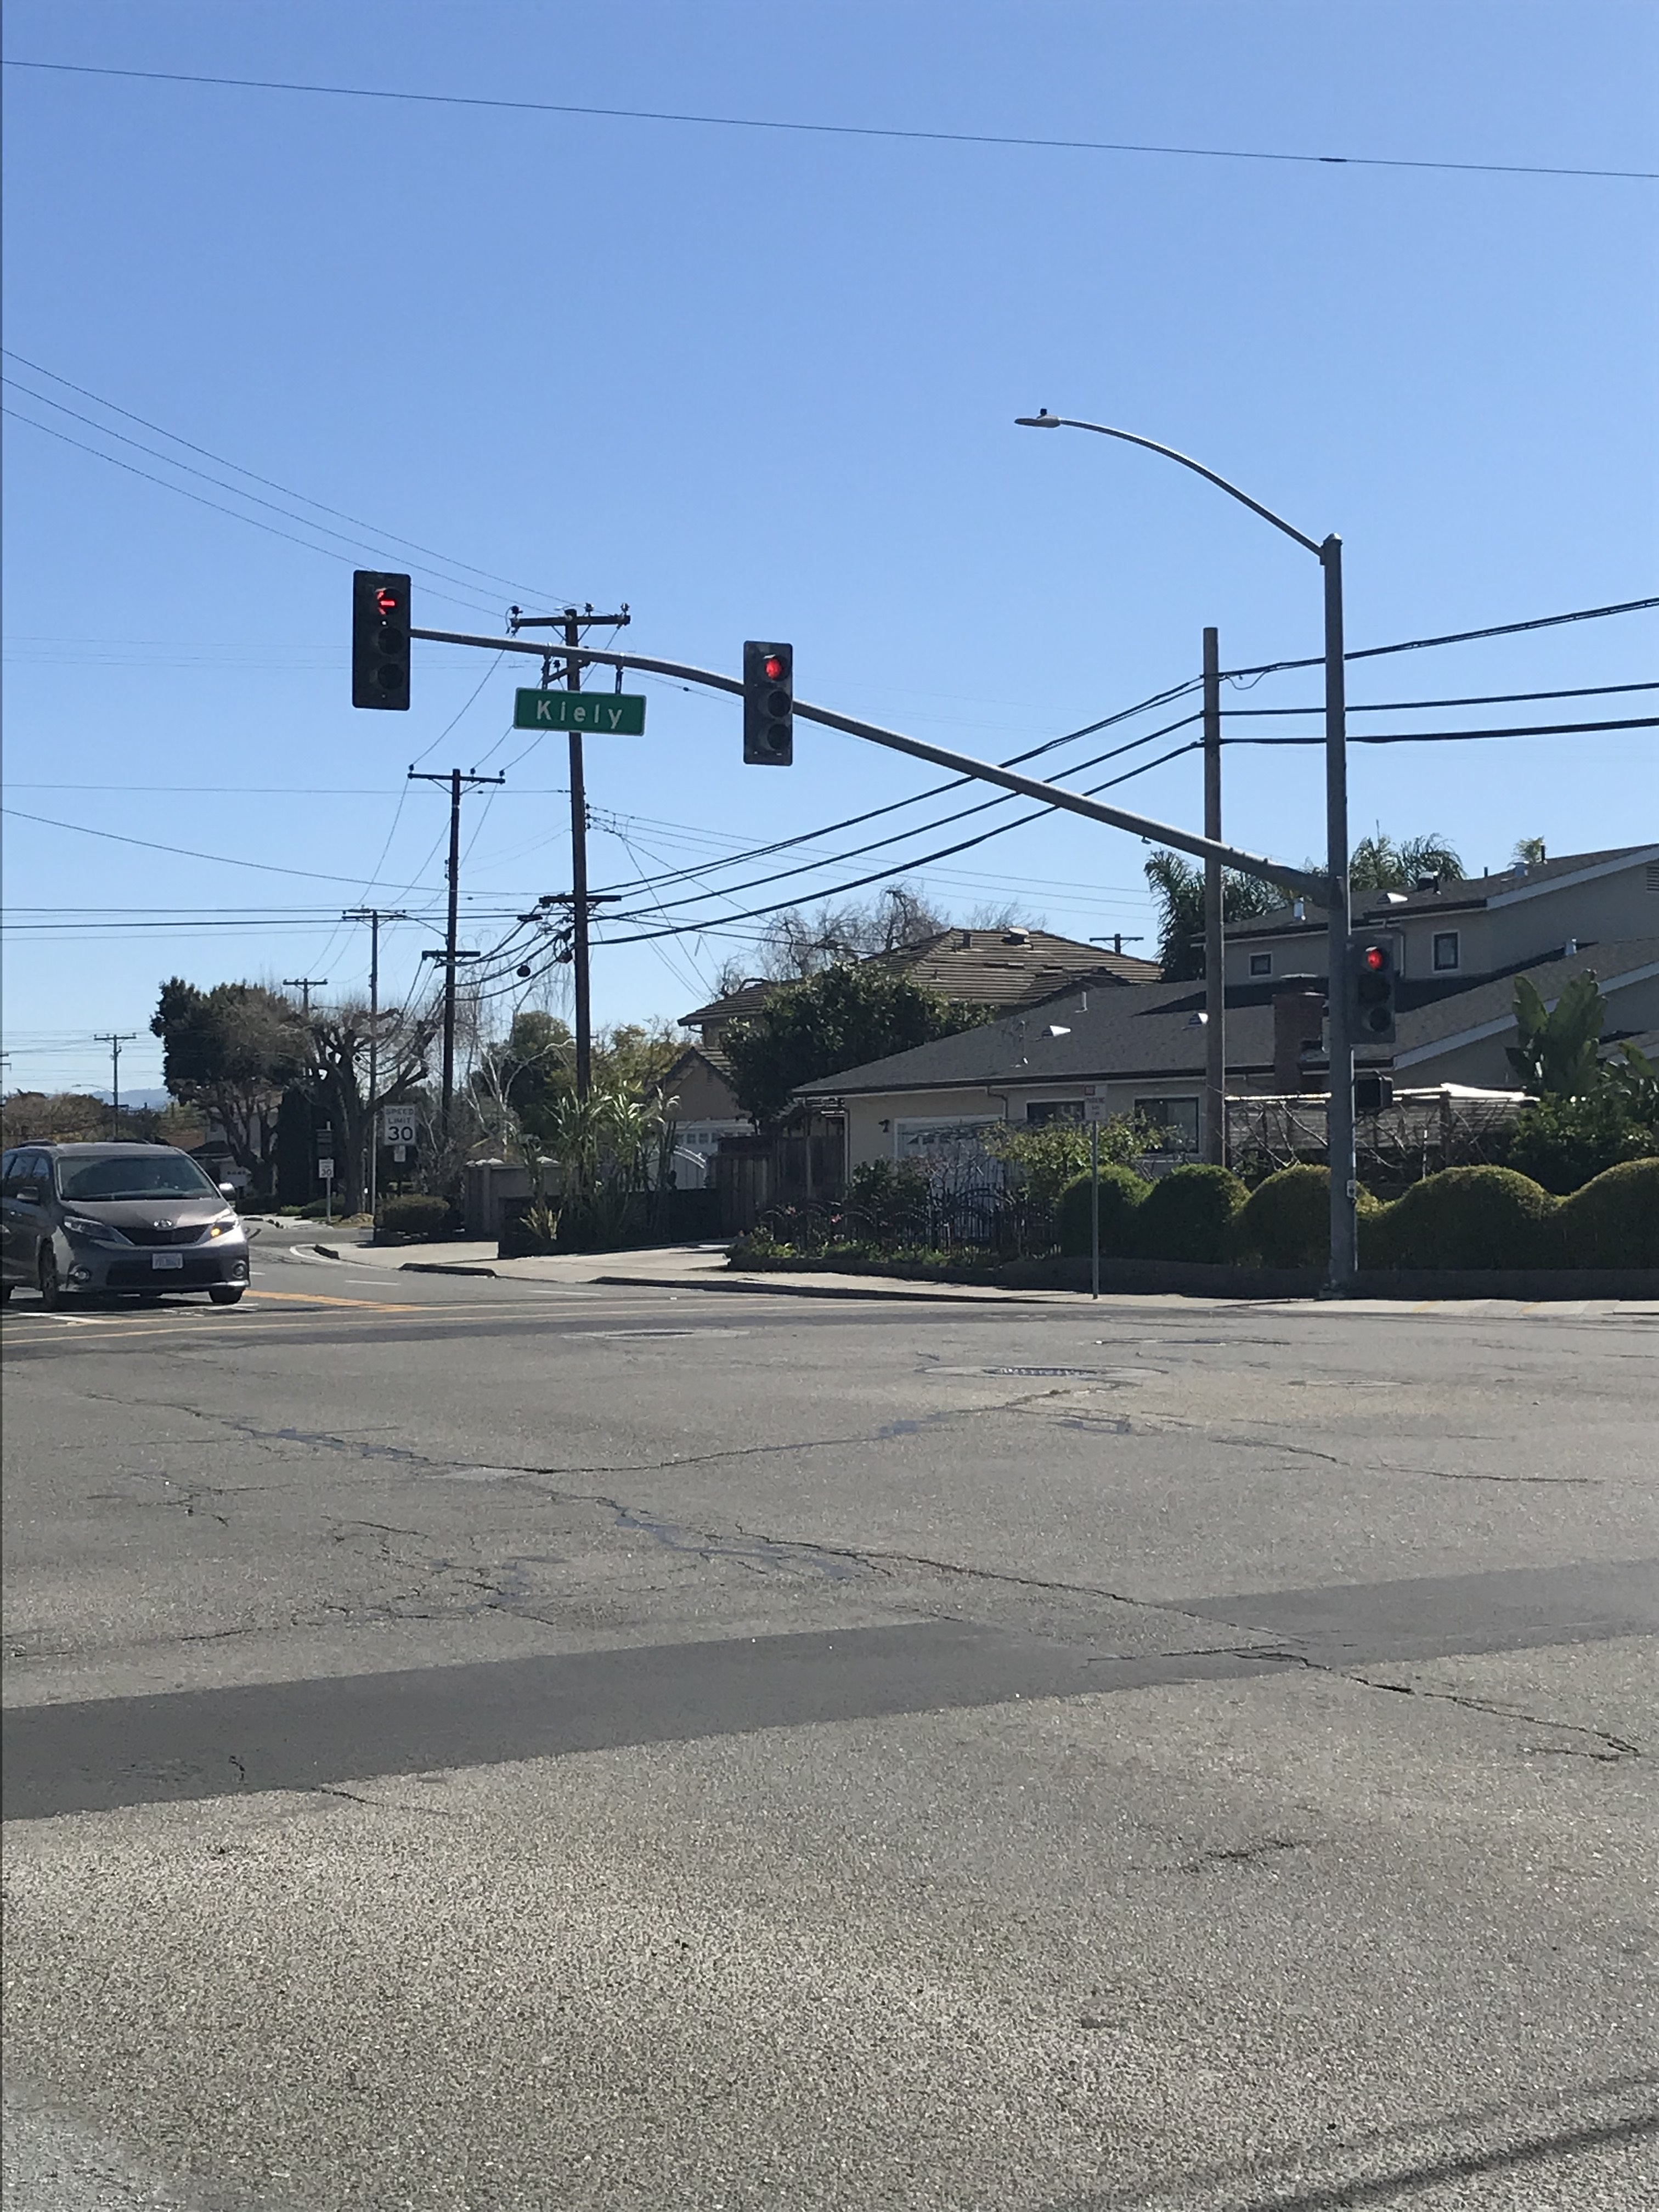red_light: (744, 646, 791, 756), (1354, 937, 1398, 1047)
